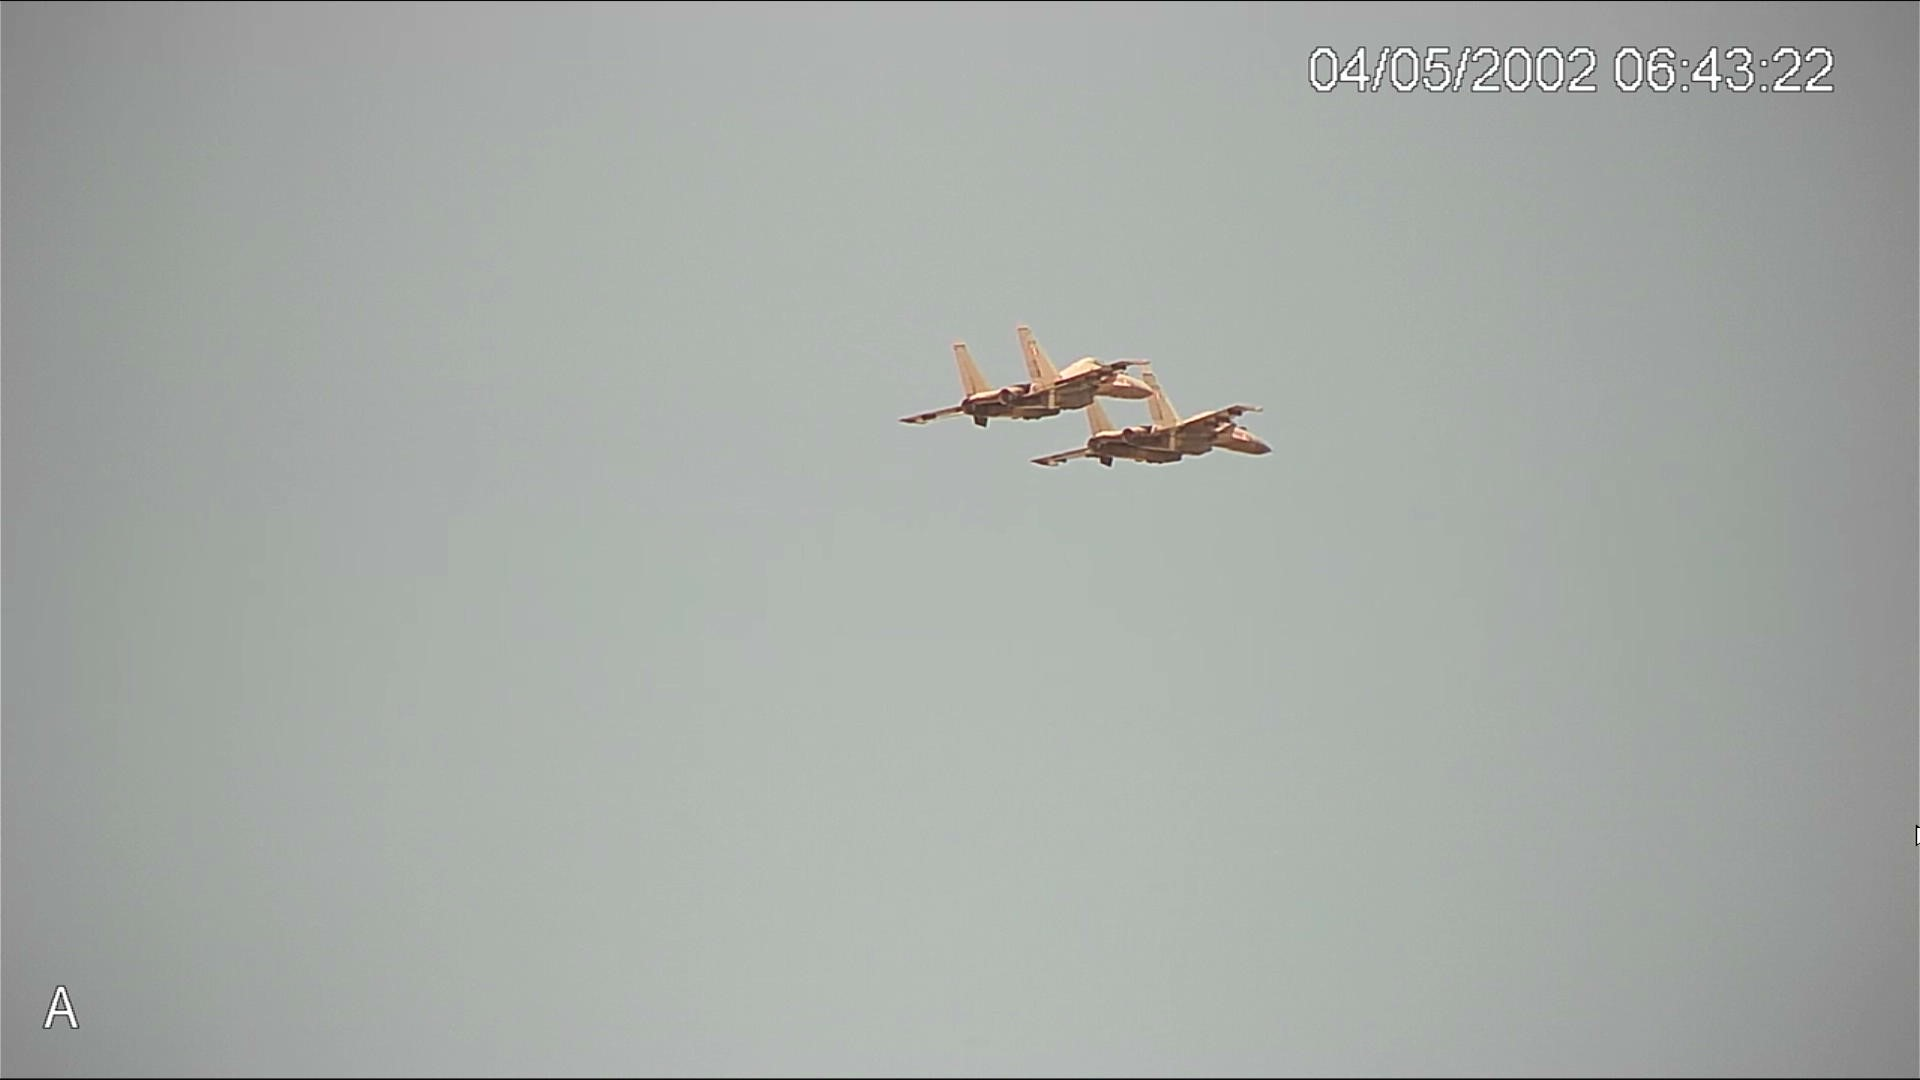SU_30: (891, 324, 1158, 427), (1025, 398, 1275, 465)
